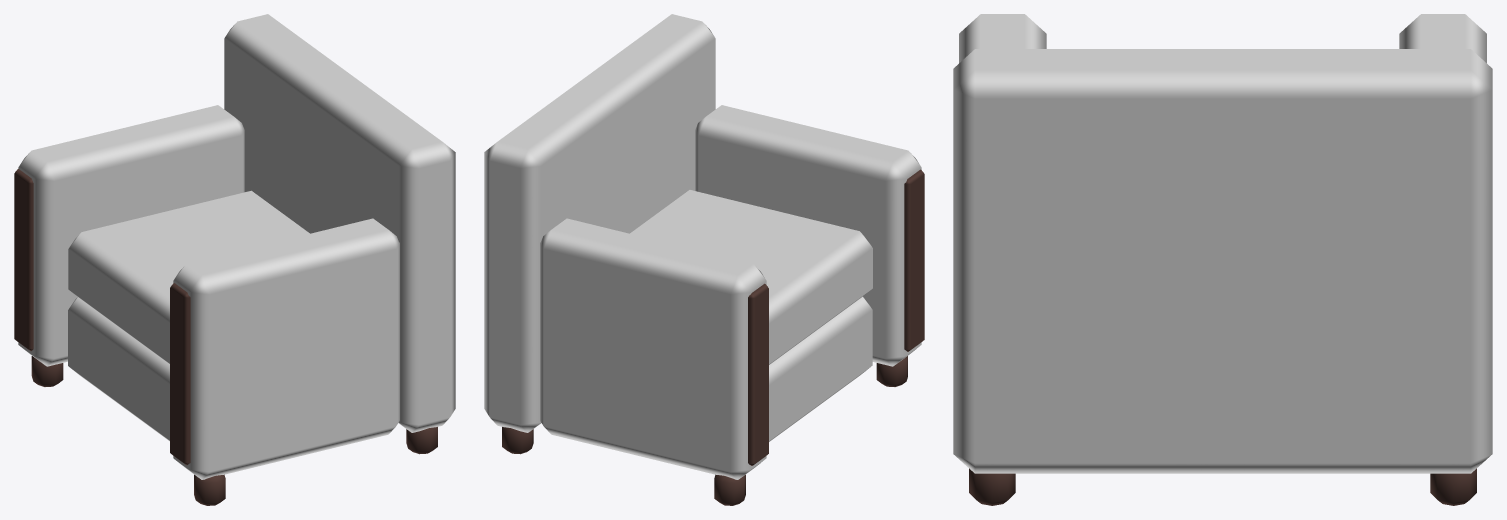
Rendered from Armchair.fbx.
3 views of the same model, side by side, from view 1: azimuth 30°, elevation 25°; view 2: azimuth 150°, elevation 25°; view 3: azimuth 270°, elevation 25° (orthographic). The views are drawn at different scales.
Parts seen in each view (by area): view 1: Cube.018, Cube.019, Cube.017, Cube.020, Cube.021, Cylinder.004; view 2: Cube.018, Cube.019, Cube.017, Cube.020, Cube.021, Cylinder.004; view 3: Cube.019, Cube.018, Cylinder.004.
Part boxes in pixels (<box>): Cube.018: <box>18,105,399,479</box>; Cube.019: <box>224,14,455,432</box>; Cube.017: <box>68,190,309,364</box>; Cube.020: <box>68,297,169,441</box>; Cube.021: <box>14,169,190,465</box>; Cylinder.004: <box>31,356,437,505</box>; Cube.018: <box>540,105,921,479</box>; Cube.019: <box>484,14,715,432</box>; Cube.017: <box>630,190,872,364</box>; Cube.020: <box>769,296,872,441</box>; Cube.021: <box>748,169,924,465</box>; Cylinder.004: <box>502,356,907,505</box>; Cube.019: <box>953,49,1492,473</box>; Cube.018: <box>959,14,1486,62</box>; Cylinder.004: <box>969,468,1476,505</box>.
Size of the model in its own units: 131 by 144 by 160.
